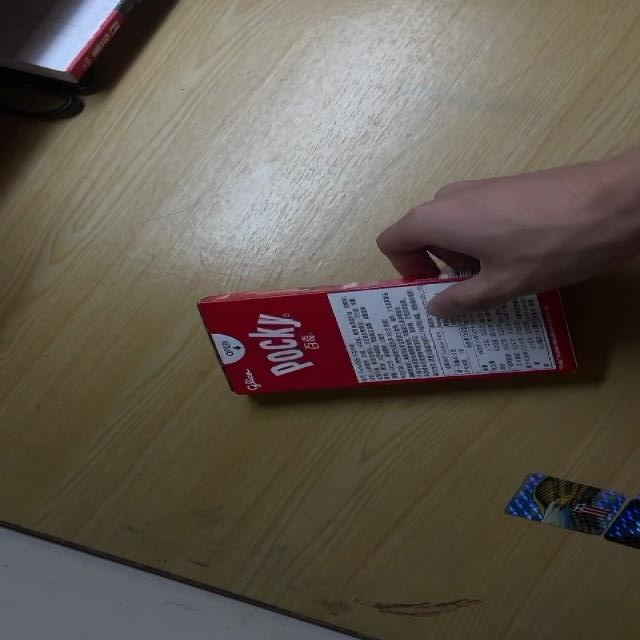Pocky: (198, 274, 582, 397)
